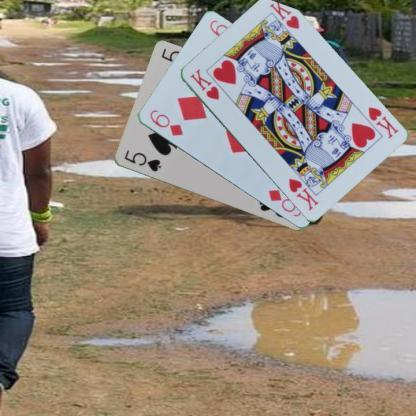5s: (122, 148, 162, 174)
6d: (147, 107, 184, 138)
Kh: (364, 104, 400, 140), (187, 66, 220, 101)
